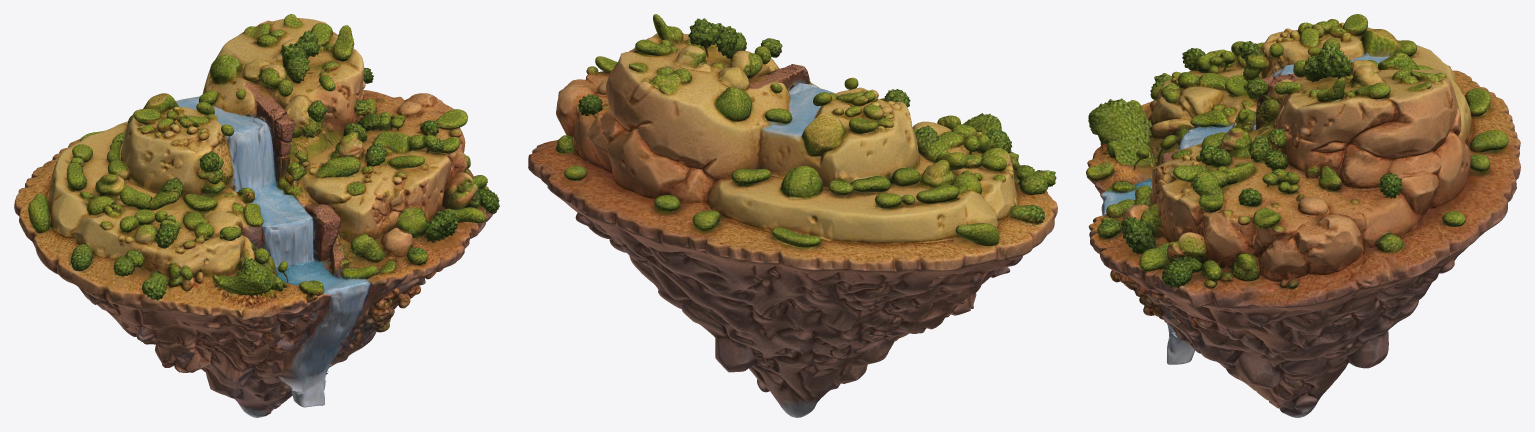
Rendered from 03-landscape-birds.glb.
The picture shows the model from 3 angles, left to right: view 1: azimuth 30°, elevation 25°; view 2: azimuth 150°, elevation 25°; view 3: azimuth 270°, elevation 25°; orthographic projection. The views are drawn at different scales.
Visible parts, largest first — view 1: tripo_node_1f77c117-7582-4d0f-91cd-1afc10127263; view 2: tripo_node_1f77c117-7582-4d0f-91cd-1afc10127263; view 3: tripo_node_1f77c117-7582-4d0f-91cd-1afc10127263.
Boxes of the visible parts, left/top/right/bottom form: tripo_node_1f77c117-7582-4d0f-91cd-1afc10127263: left=14, top=14, right=499, bottom=417; tripo_node_1f77c117-7582-4d0f-91cd-1afc10127263: left=528, top=14, right=1057, bottom=417; tripo_node_1f77c117-7582-4d0f-91cd-1afc10127263: left=1086, top=14, right=1520, bottom=417.
Size of the model in its own units: 0.5222 by 0.4222 by 0.4125.
Materials: 1 (1 with a texture image).
